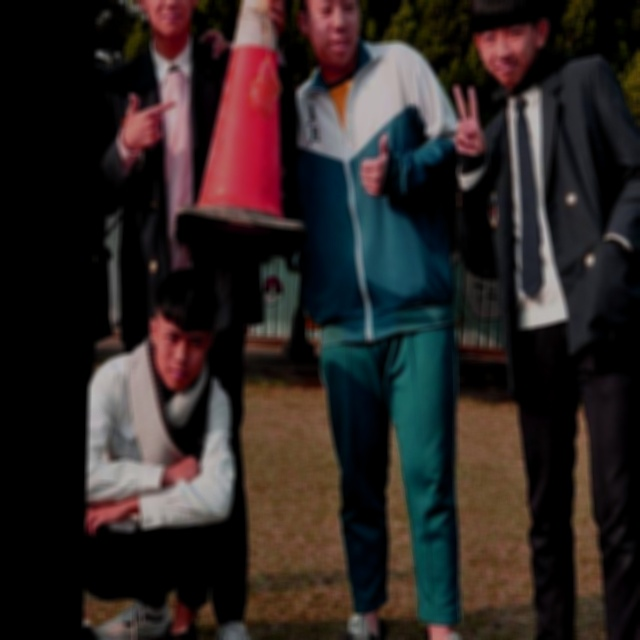Sin_Casco_Mascarrilla: (466, 0, 549, 91), (295, 0, 362, 72), (130, 0, 203, 42)
